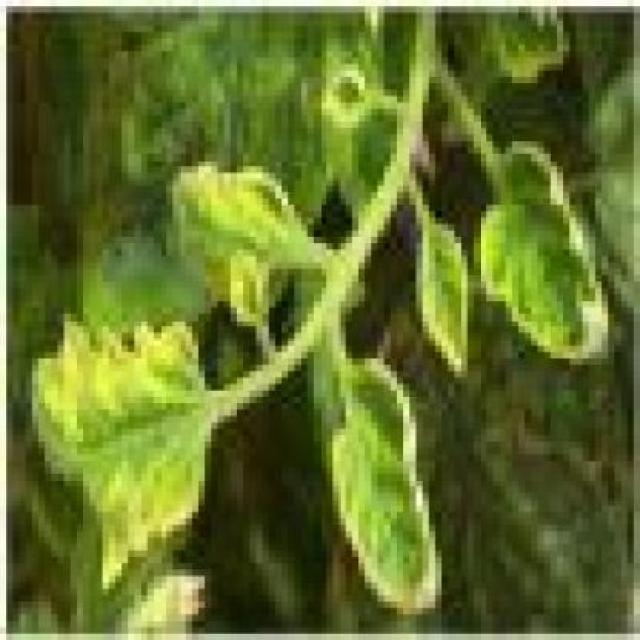Healthy Leaf: (26, 295, 225, 583), (468, 121, 608, 377), (320, 352, 442, 608), (166, 134, 314, 314), (415, 210, 468, 384)
